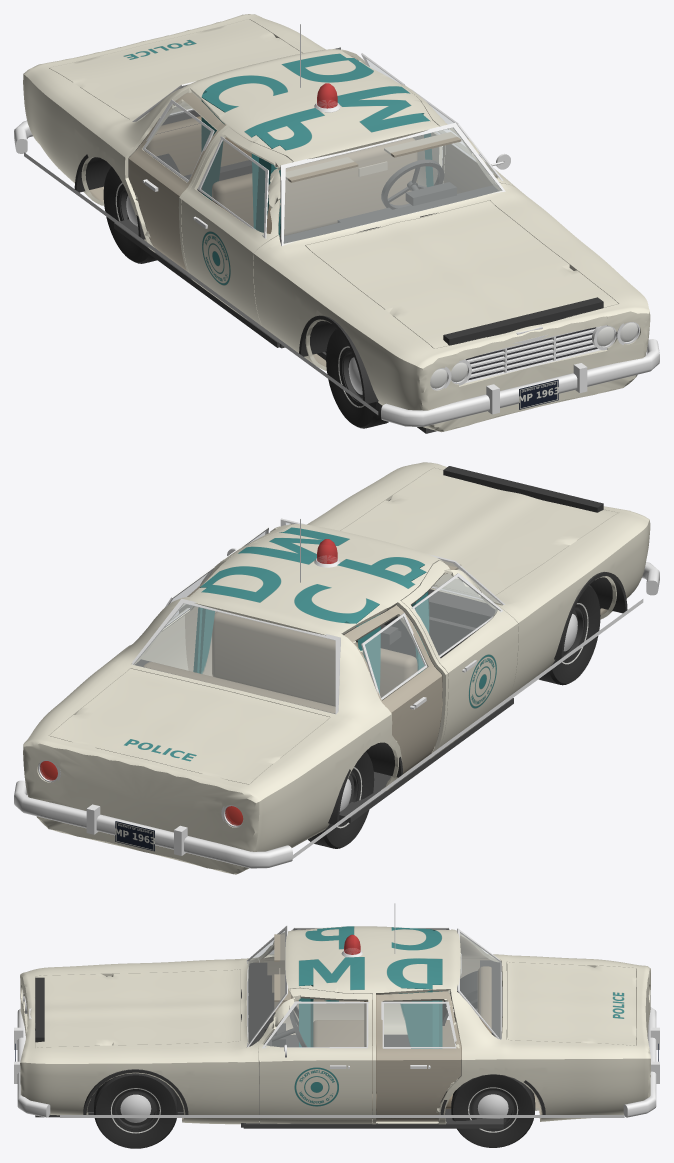
File: SM_V01_PatrolSedan_MPDC.glb
3 renders of one model, top to bottom at view 1: azimuth 30°, elevation 25°; view 2: azimuth 150°, elevation 25°; view 3: azimuth 270°, elevation 25°, orthographic. The views are drawn at different scales.
Visible parts, largest first — view 1: BODY, HOOD, GLASS_WINDSHIELD, TRUNK, DOOR_FR, INT_SEAT_FRONT, POLICE_DECAL_ROOF_ID, DOOR_RR, BUMPER_FRONT, GLASS_DOOR_FR, WHEELHOUSES, WHEEL_FR (+20 smaller); view 2: BODY, TRUNK, HOOD, GLASS_REAR, INT_SEAT_FRONT, POLICE_DECAL_ROOF_ID, DOOR_FR, DOOR_RR, BUMPER_REAR, GLASS_DOOR_FR, GLASS_DOOR_RR, INT_DASH (+15 smaller); view 3: BODY, HOOD, TRUNK, DOOR_FL, DOOR_RL, POLICE_DECAL_ROOF_ID, WHEEL_FL, WHEEL_RL, GLASS_DOOR_FL, INT_FLOOR, GLASS_DOOR_RL, GLASS_REAR (+17 smaller).
Boxes of the visible parts, x1,y1,x2,y2 form: BODY: (23,14,650,432); HOOD: (305,200,618,348); GLASS_WINDSHIELD: (284,127,501,243); TRUNK: (49,19,302,119); DOOR_FR: (181,127,292,325); INT_SEAT_FRONT: (212,137,417,236); POLICE_DECAL_ROOF_ID: (201,53,433,236); DOOR_RR: (128,88,225,270); BUMPER_FRONT: (381,339,659,426); GLASS_DOOR_FR: (201,140,264,234); WHEELHOUSES: (74,144,378,403); WHEEL_FR: (326,328,388,428); BODY: (23,462,650,874); TRUNK: (49,668,330,784); HOOD: (341,468,618,597); GLASS_REAR: (134,603,335,713); INT_SEAT_FRONT: (212,612,442,721); POLICE_DECAL_ROOF_ID: (193,527,429,693); DOOR_FR: (401,560,518,755); DOOR_RR: (342,605,442,786); BUMPER_REAR: (14,780,292,868); GLASS_DOOR_FR: (415,577,499,655); GLASS_DOOR_RR: (365,617,424,697); INT_DASH: (380,589,495,645); BODY: (20,926,650,1124); HOOD: (35,969,240,1047); TRUNK: (506,962,636,1045); DOOR_FL: (258,988,372,1123); DOOR_RL: (376,989,461,1123); POLICE_DECAL_ROOF_ID: (299,926,442,1048); WHEEL_FL: (94,1073,177,1148); WHEEL_RL: (451,1074,535,1147); GLASS_DOOR_FL: (265,1003,366,1046); INT_FLOOR: (241,960,506,1128); GLASS_DOOR_RL: (384,1003,454,1046); GLASS_REAR: (460,933,500,1038).
Size of what is drawn, in the model's own units: 2.18 by 1.89 by 5.46.
Materials: 19 (4 with a texture image).
